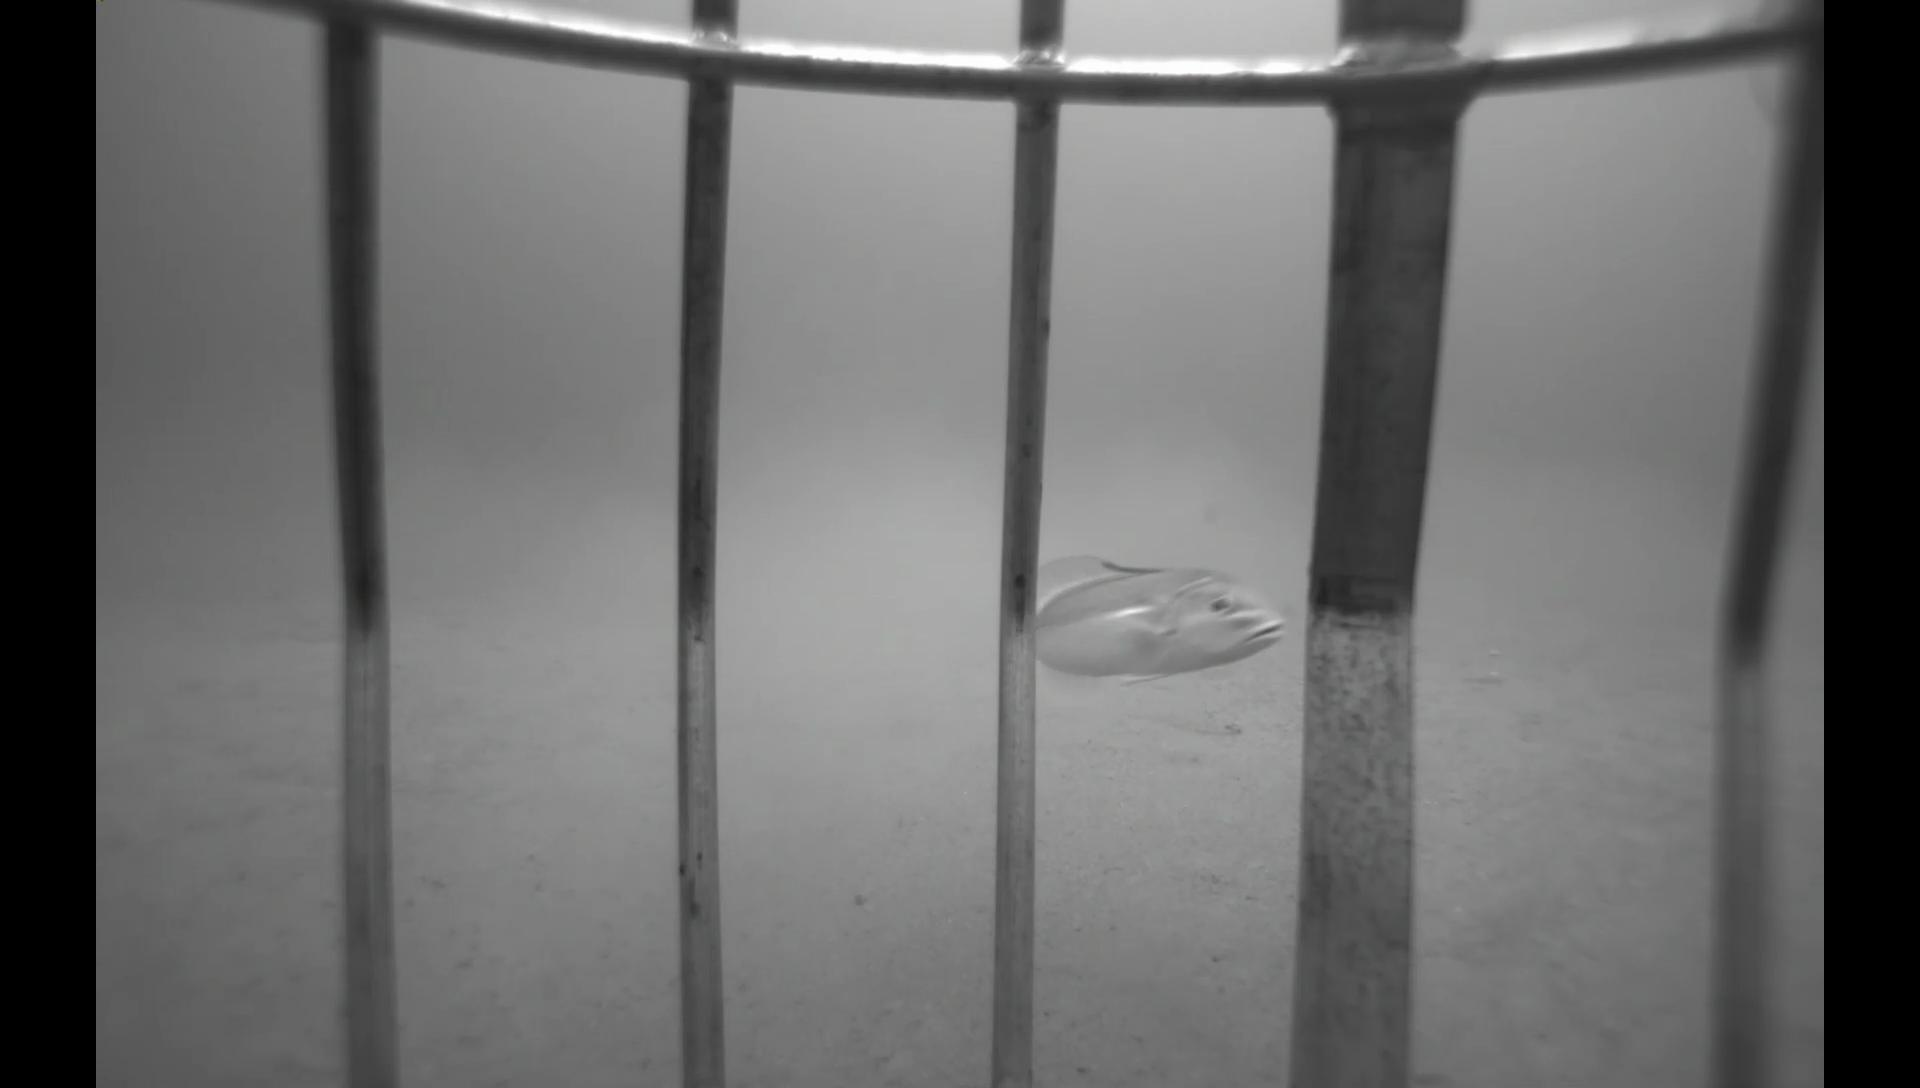CAULOLATILUSCYANOPS-170070101: (1030, 541, 1302, 702)
PRISTIPOMOIDES-170151800: (266, 596, 345, 650)
SYACIUM-183011000: (1143, 699, 1249, 742)
